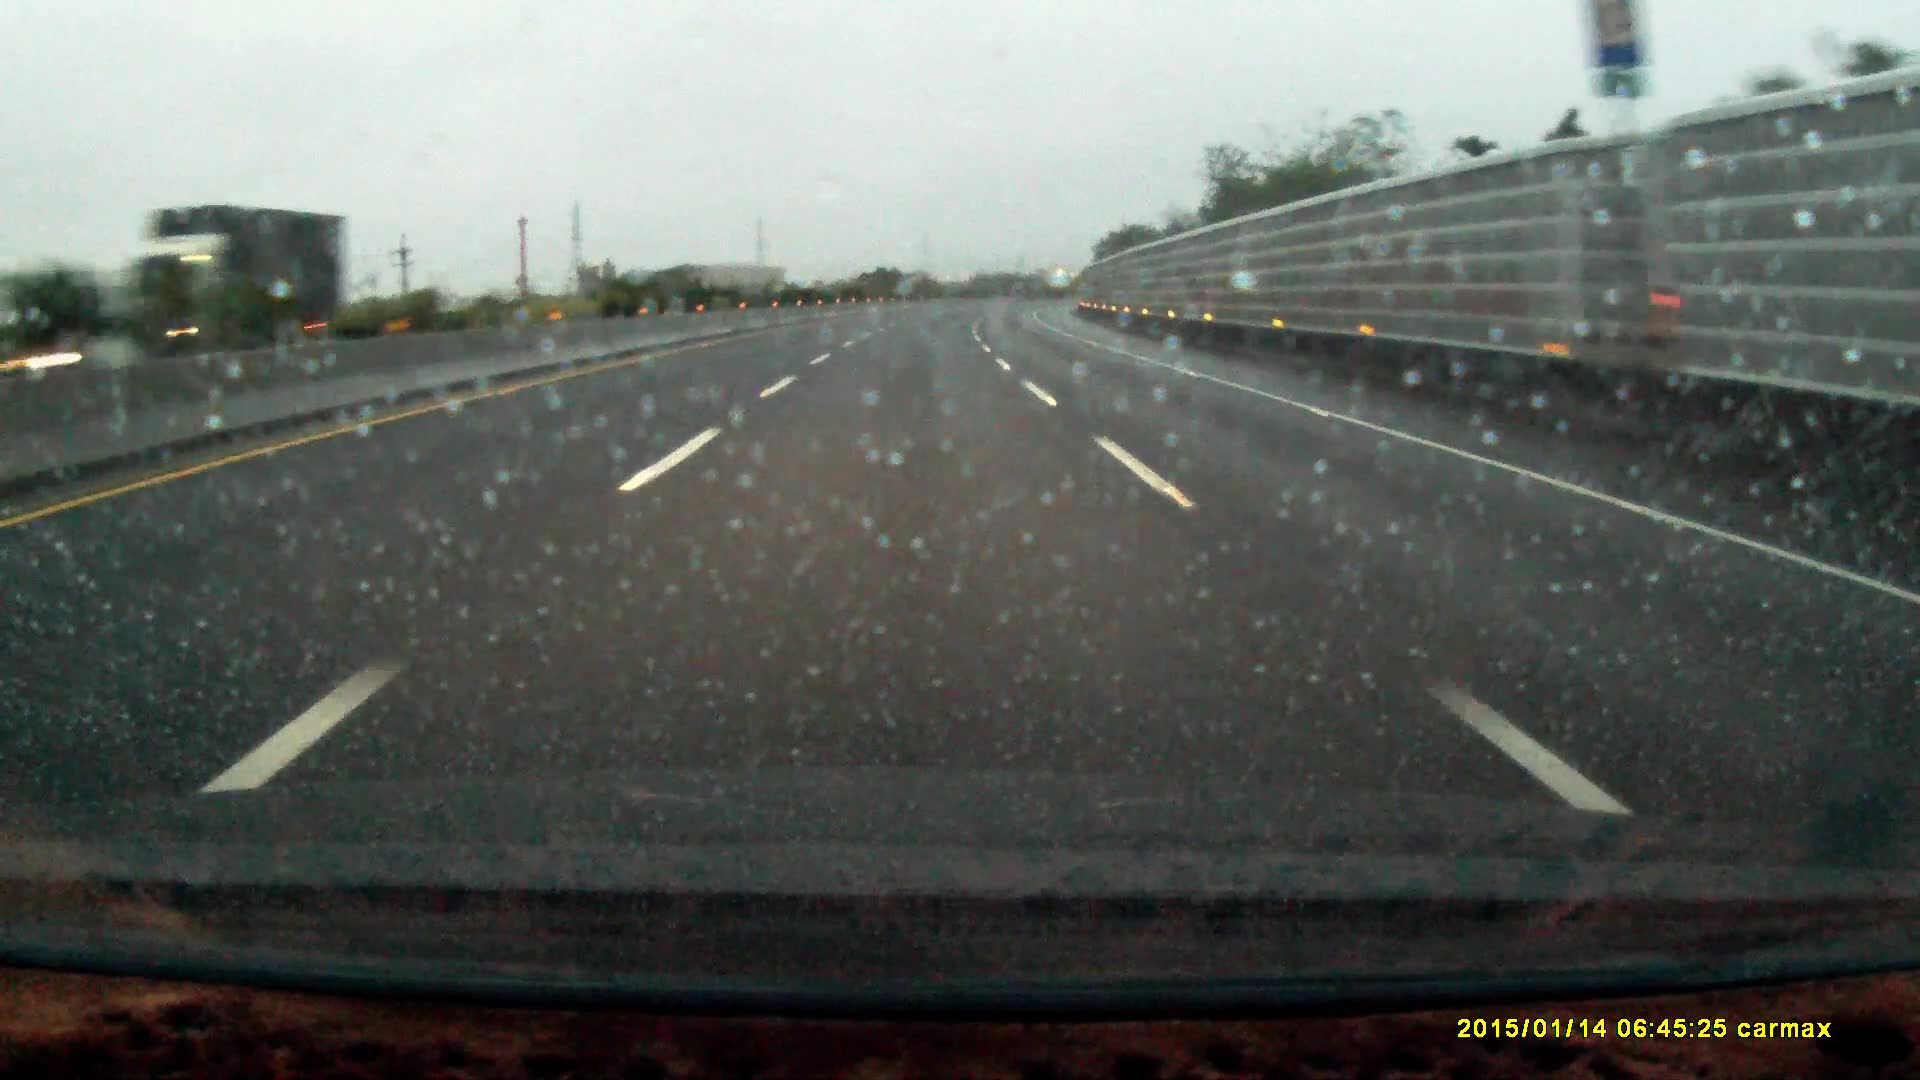vehicle: (135, 203, 347, 352)
